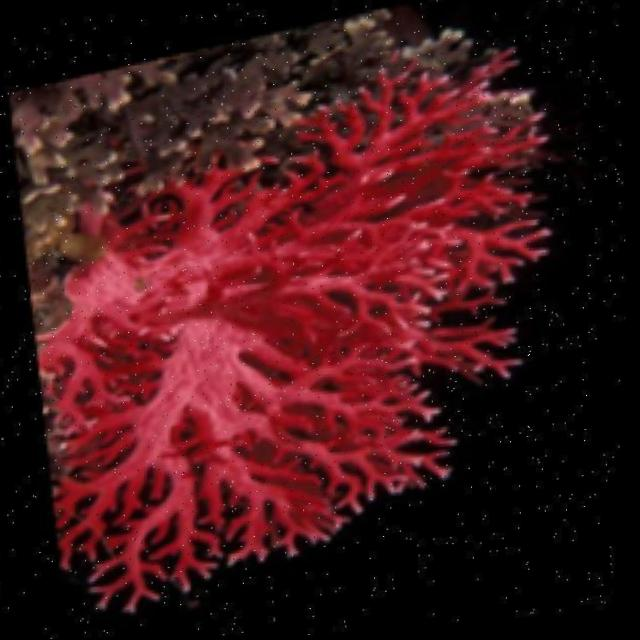Healthy Coral: (12, 0, 583, 616)
